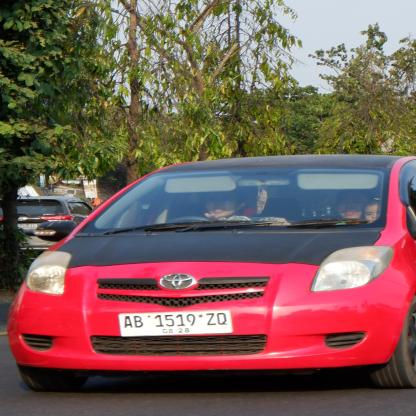Plat-Nomor: (117, 308, 239, 340)
